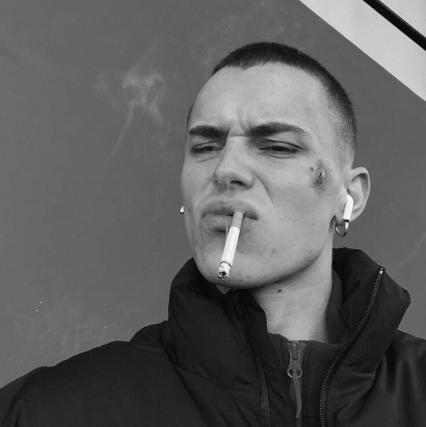cigarette: (217, 210, 244, 279)
